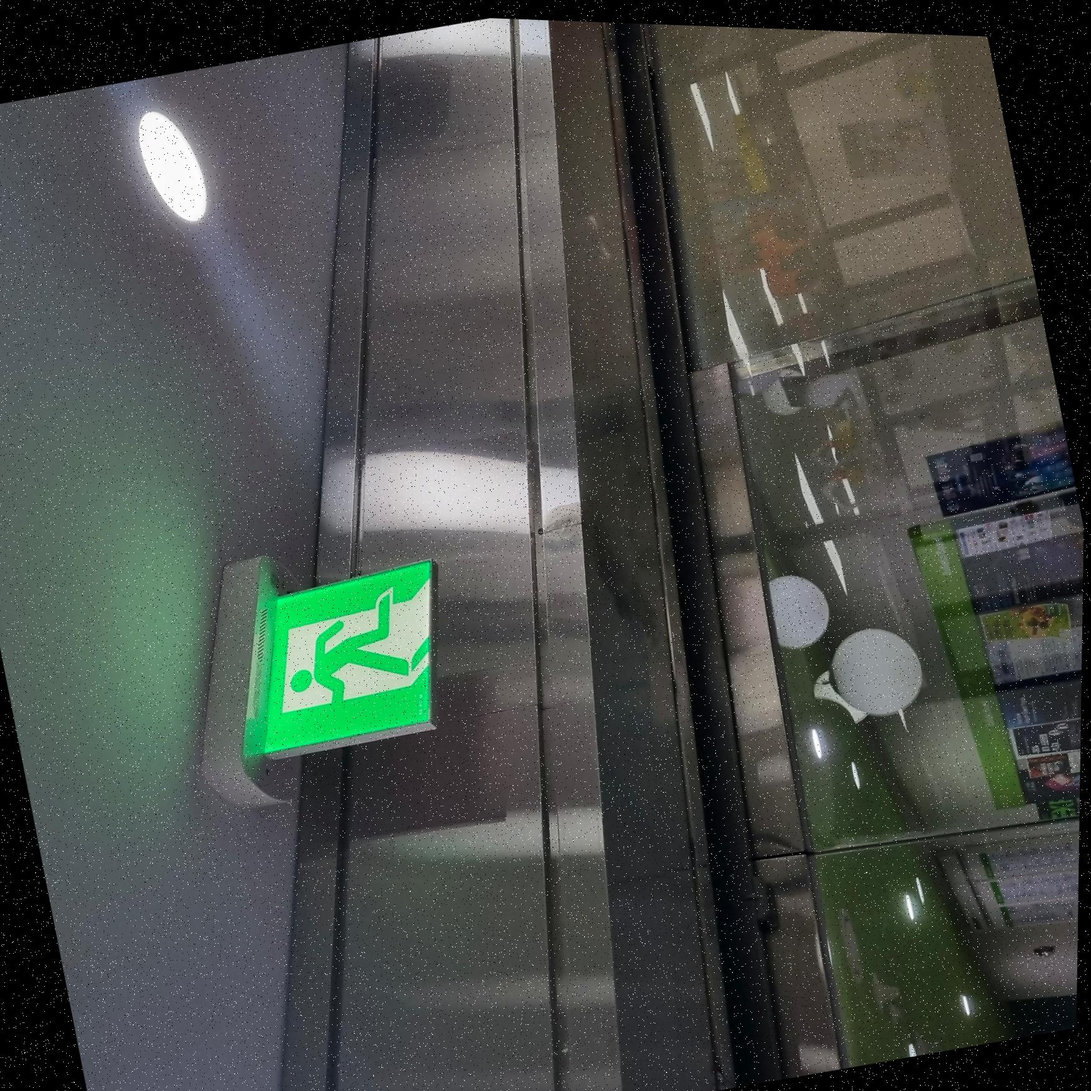emergency_exit: (240, 555, 438, 764)
